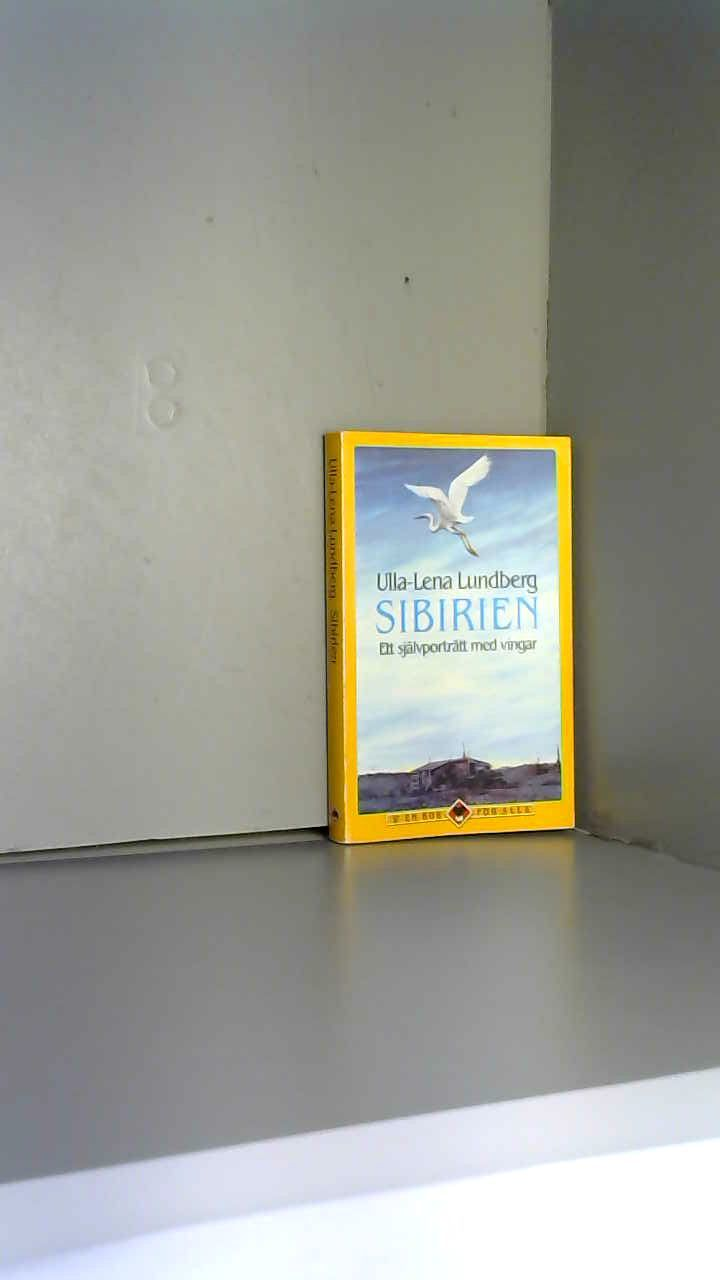book: (306, 413, 592, 860)
